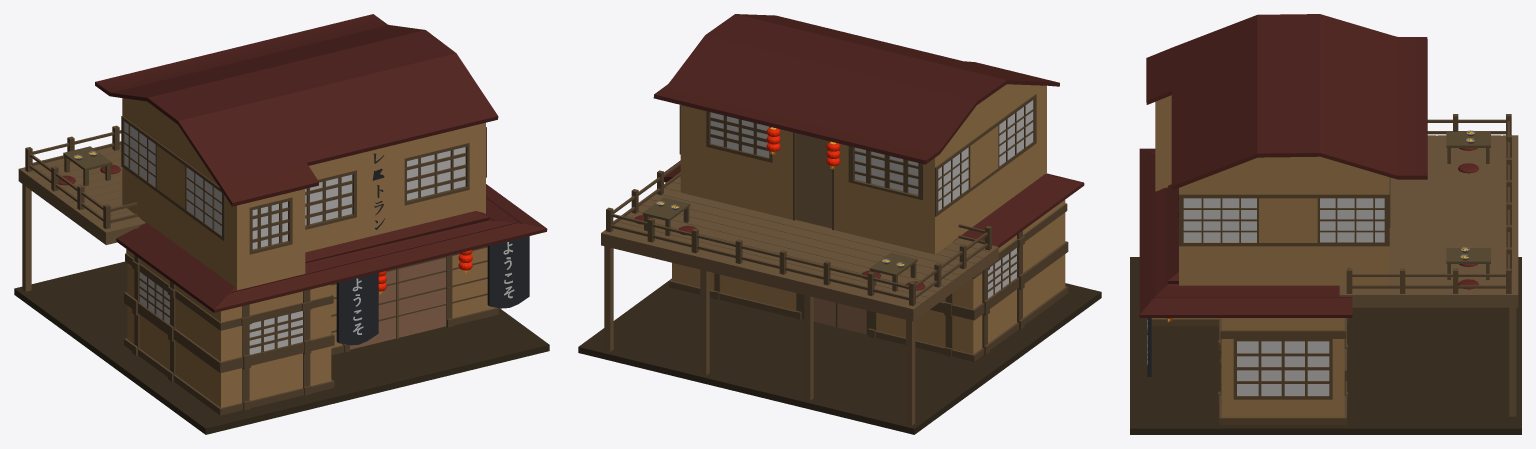
The model's file is Restaurant_1.fbx.
3 views of the same model, side by side, from view 1: azimuth 30°, elevation 25°; view 2: azimuth 150°, elevation 25°; view 3: azimuth 270°, elevation 25° (orthographic). The views are drawn at different scales.
Parts seen in each view (by area): view 1: Restaurant_1; view 2: Restaurant_1; view 3: Restaurant_1.
Part boxes in pixels (box(x1,y1,x2,y2)): Restaurant_1: box(14, 14, 549, 434); Restaurant_1: box(578, 14, 1101, 434); Restaurant_1: box(1130, 14, 1521, 434).
Size of the model in its own units: 560 by 403 by 537.
